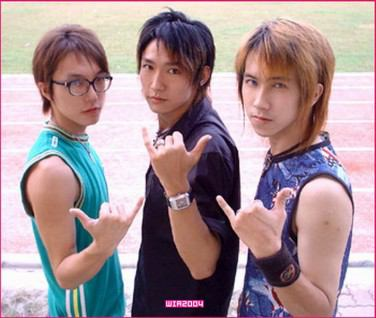people: (242, 22, 352, 318), (138, 13, 242, 318), (28, 25, 128, 318)
